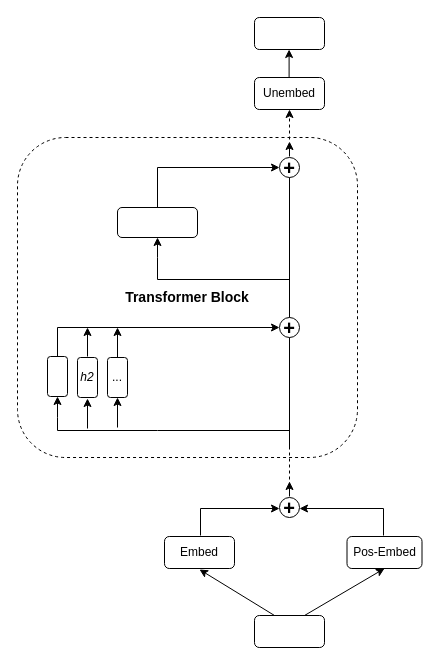
The diagram is 440 pixels wide and 665 high, and some of its shapes have lost their labels. Each missing label, with the centre of its shape:
"h1" belongs at (57,376).
"Logits" belongs at (289,33).
"MLP m" belongs at (157,222).
"Tokens" belongs at (289,631).
